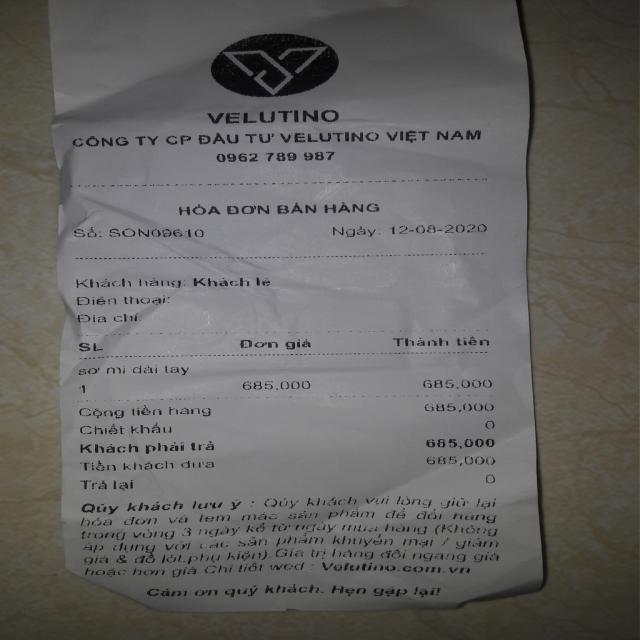Date: (391, 221, 492, 238)
Store_Name: (198, 106, 351, 126)
amount_number: (421, 434, 497, 449)
label_total: (78, 440, 219, 453)
